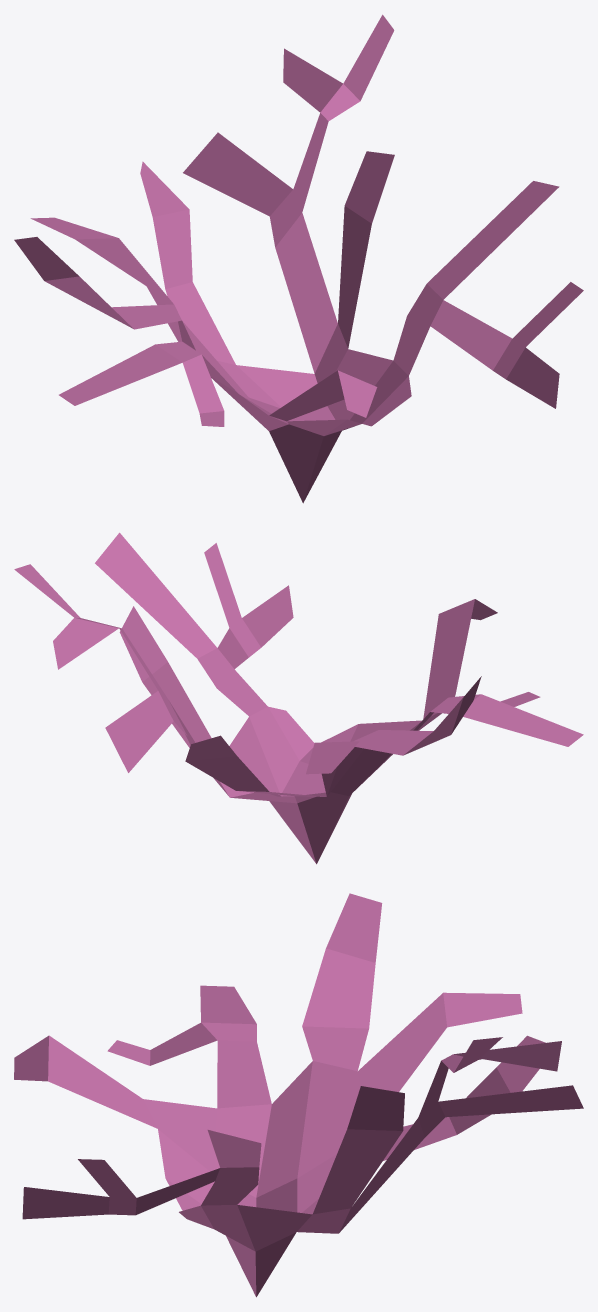
Rendered from coral_3.fbx.
The picture shows the model from 3 angles, top to bottom: view 1: azimuth 30°, elevation 25°; view 2: azimuth 150°, elevation 25°; view 3: azimuth 270°, elevation 25°; orthographic projection. The views are drawn at different scales.
Visible parts, largest first — view 1: coral_3; view 2: coral_3; view 3: coral_3.
Boxes of the visible parts, x1=… form: coral_3: x1=14, y1=14, x2=583, y2=503; coral_3: x1=14, y1=532, x2=583, y2=864; coral_3: x1=14, y1=893, x2=583, y2=1297.
Size of the model in its own units: 257 by 177 by 254.
